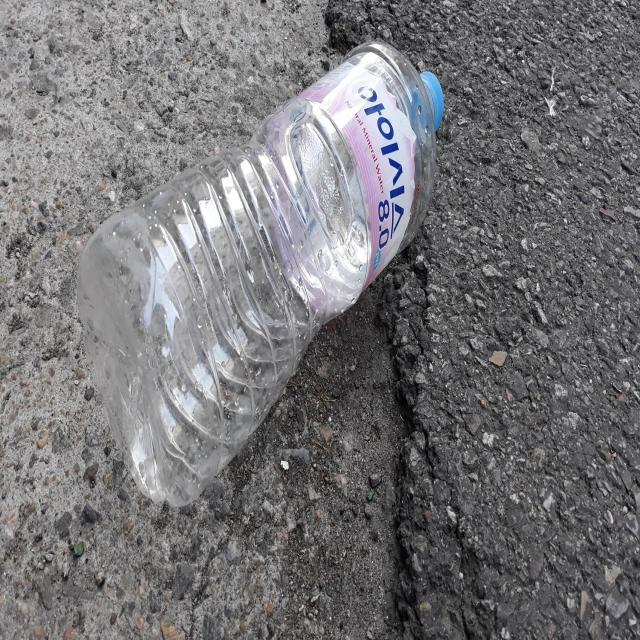plastic: (76, 41, 444, 506)
